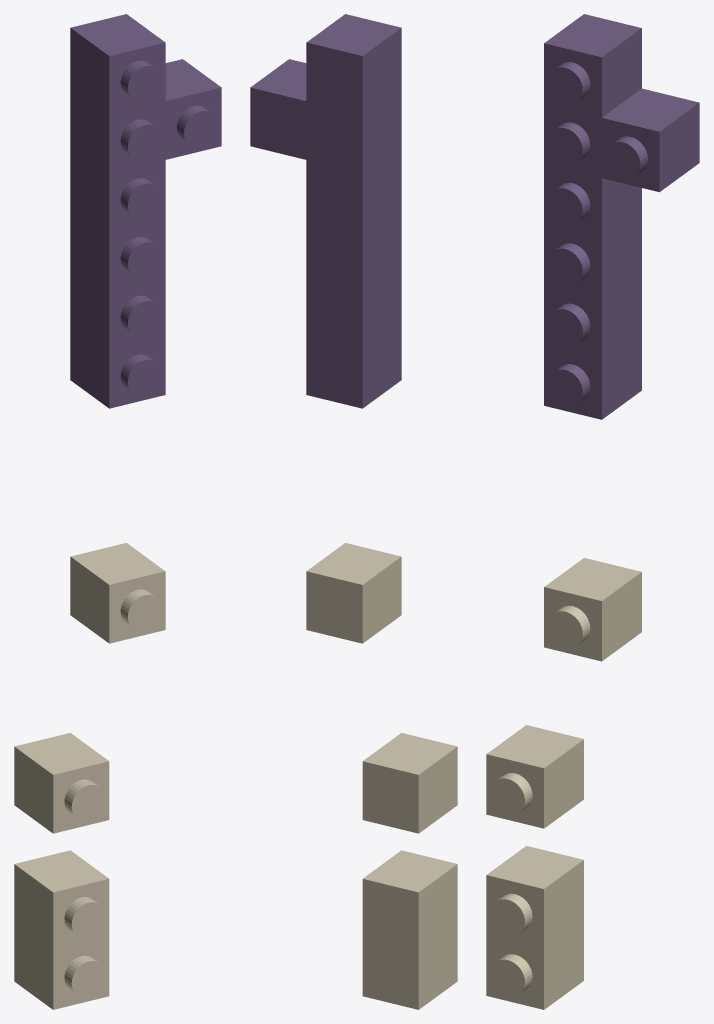
Rendered from current.glb.
3 renders of one model, left to right at view 1: azimuth 30°, elevation 25°; view 2: azimuth 150°, elevation 25°; view 3: azimuth 330°, elevation 25°, orthographic. The views are drawn at different scales.
Visible parts, largest first — view 1: world; view 2: world; view 3: world.
Part boxes in pixels (x1,y1,x2,y2): world: (14,14,221,1009); world: (250,14,457,1009); world: (486,14,699,1009).
Bounding box in the file's own units: 24 × 128 × 11.4.
